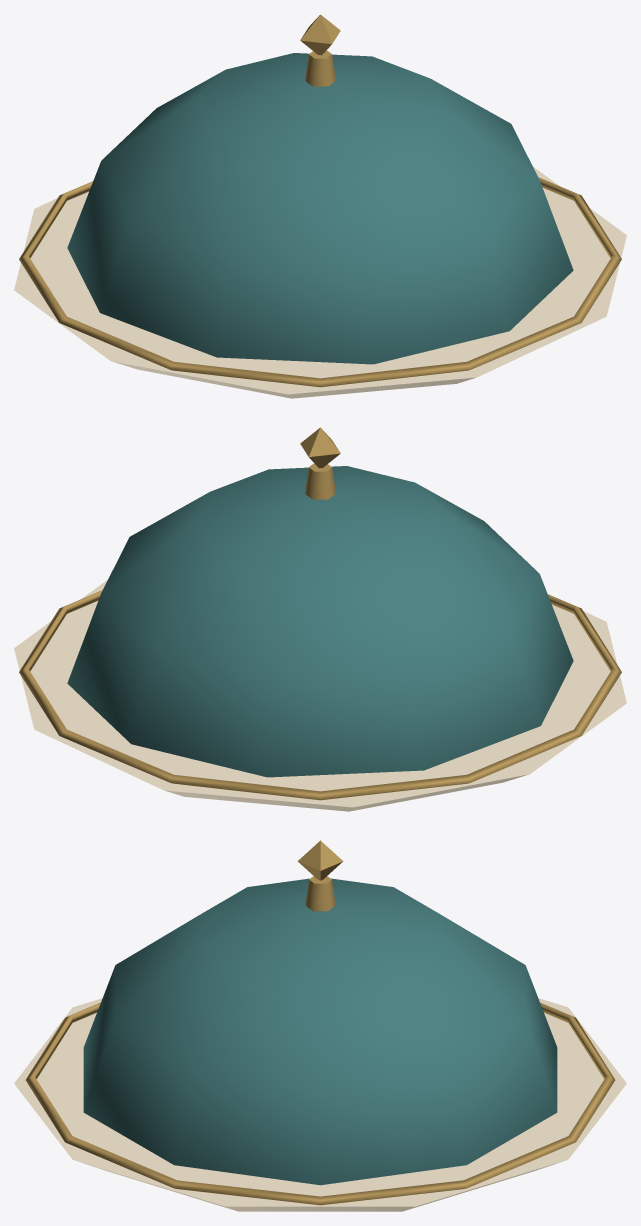
Rendered from thursday-challenge.glb.
The picture shows the model from 3 angles, top to bottom: view 1: azimuth 30°, elevation 25°; view 2: azimuth 150°, elevation 25°; view 3: azimuth 270°, elevation 25°; orthographic projection. The views are drawn at different scales.
Parts seen in each view (by area): view 1: thursday-challenge; view 2: thursday-challenge; view 3: thursday-challenge.
Boxes of the visible parts, x1,y1,x2,y2 form: thursday-challenge: (14,14,626,398); thursday-challenge: (14,427,626,811); thursday-challenge: (14,840,626,1211).
Bounding box in the file's own units: 0.308 × 0.152 × 0.32.
